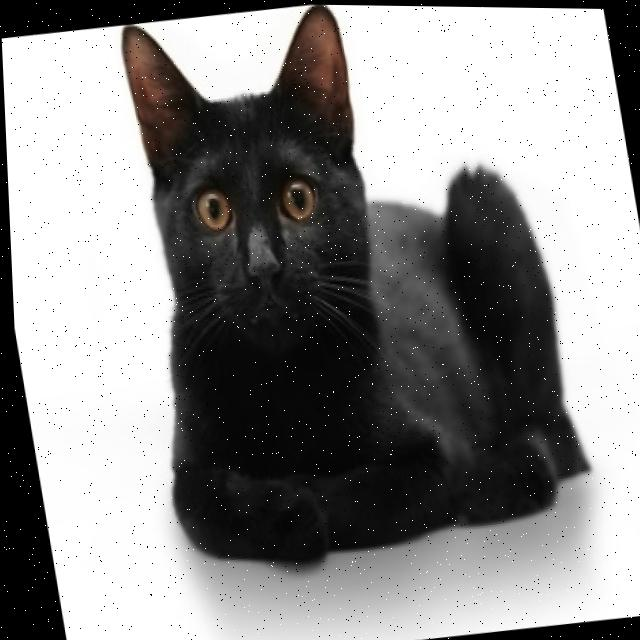Bombay: (90, 1, 606, 589)
